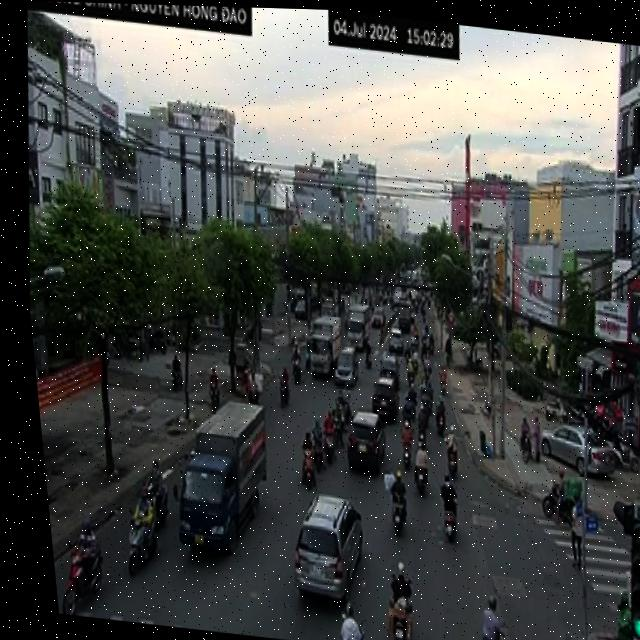Green: (608, 516, 640, 640)
